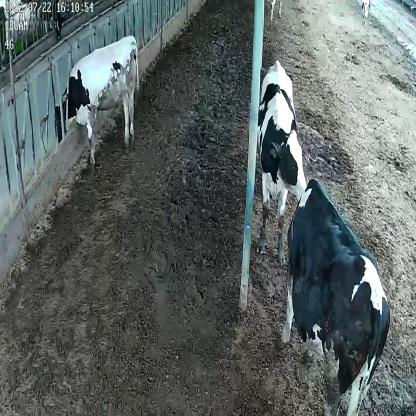cow: (282, 178, 391, 416), (54, 35, 141, 162), (258, 60, 306, 269)
